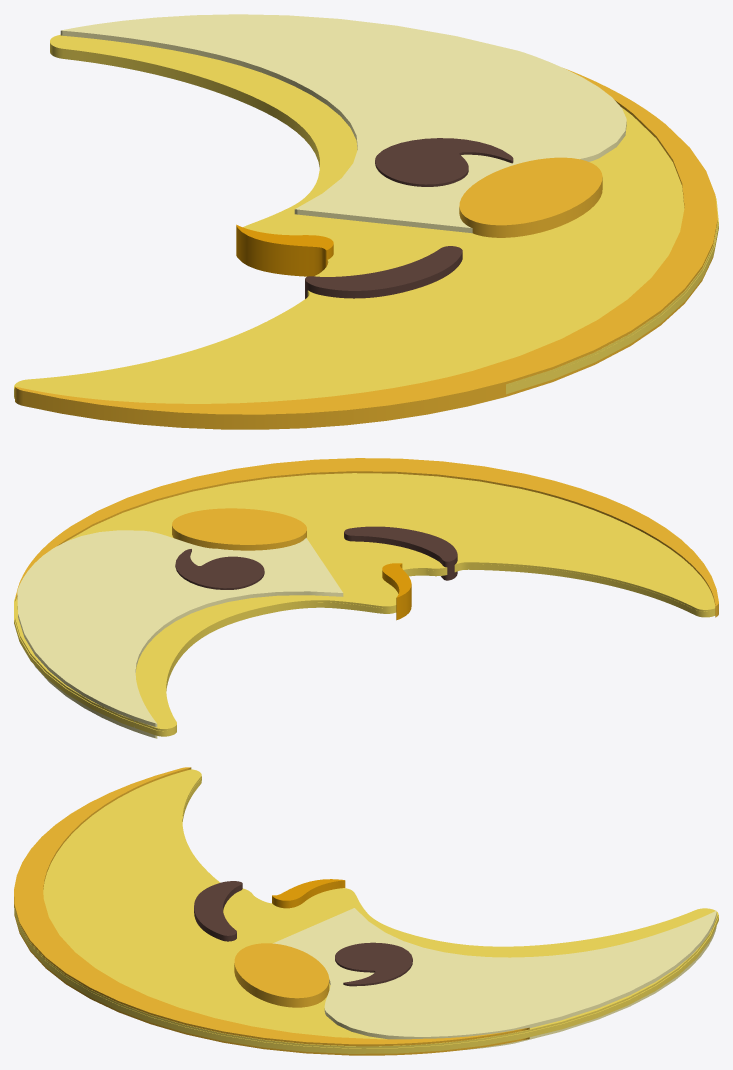
The model's file is emoji_u1f31b.glb.
3 views of the same model, one above another, from view 1: azimuth 30°, elevation 25°; view 2: azimuth 150°, elevation 25°; view 3: azimuth 270°, elevation 25° (orthographic). The views are drawn at different scales.
Visible parts, largest first — view 1: emoji_u1f31b; view 2: emoji_u1f31b; view 3: emoji_u1f31b.
Boxes of the visible parts, box(x1,y1,x2,y2) form: emoji_u1f31b: box(14, 14, 718, 429); emoji_u1f31b: box(14, 458, 718, 738); emoji_u1f31b: box(14, 767, 718, 1055).
Size of the model in its own units: 0.0315 by 0.0014 by 0.0338.
